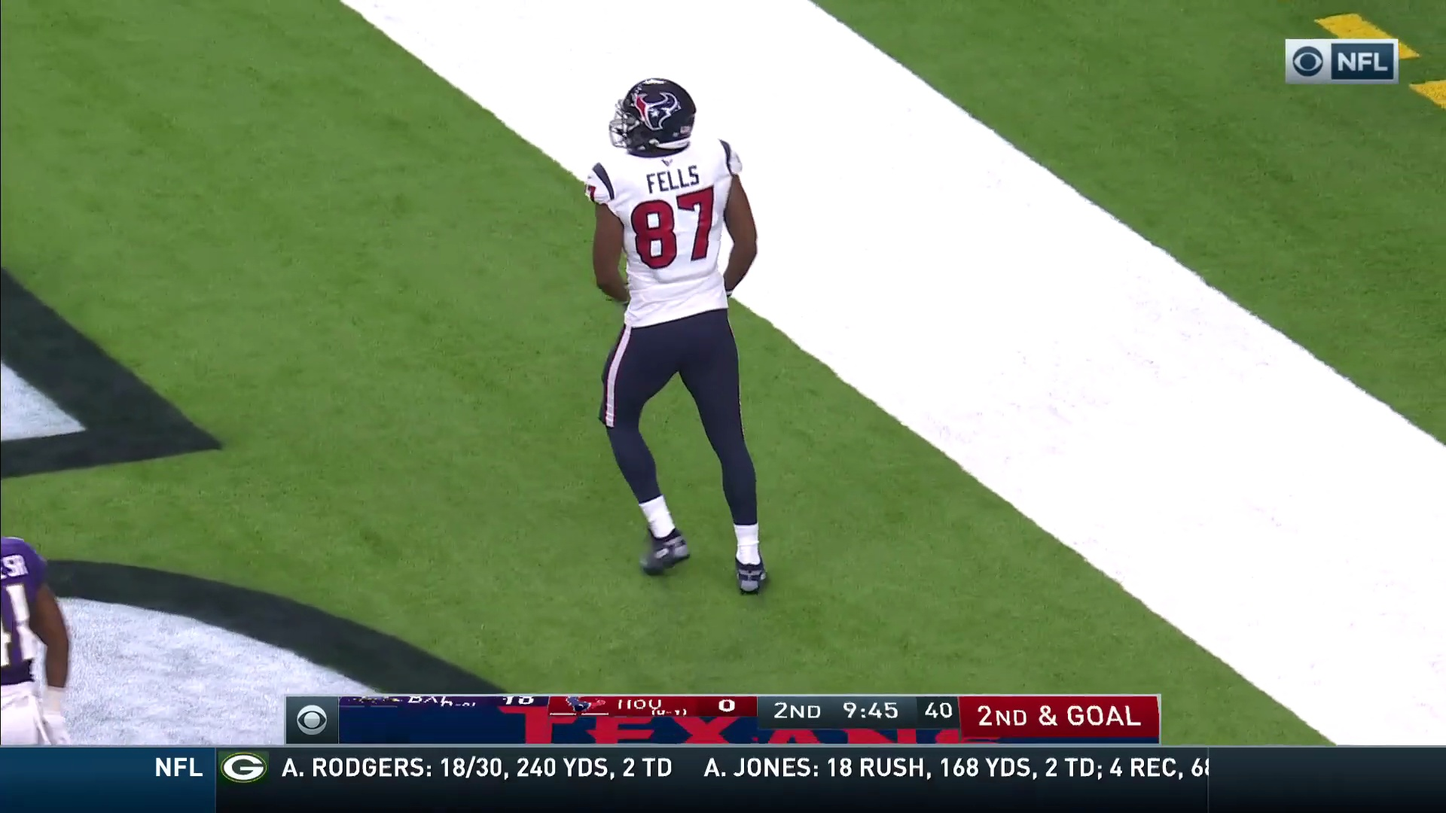Player: (0, 536, 71, 744)
